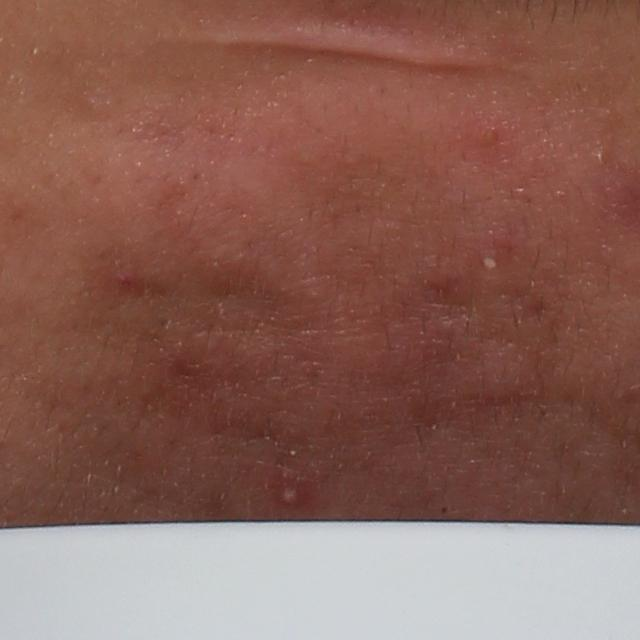papule: (468, 117, 505, 150)
pustule: (475, 244, 503, 276), (275, 477, 303, 505)
